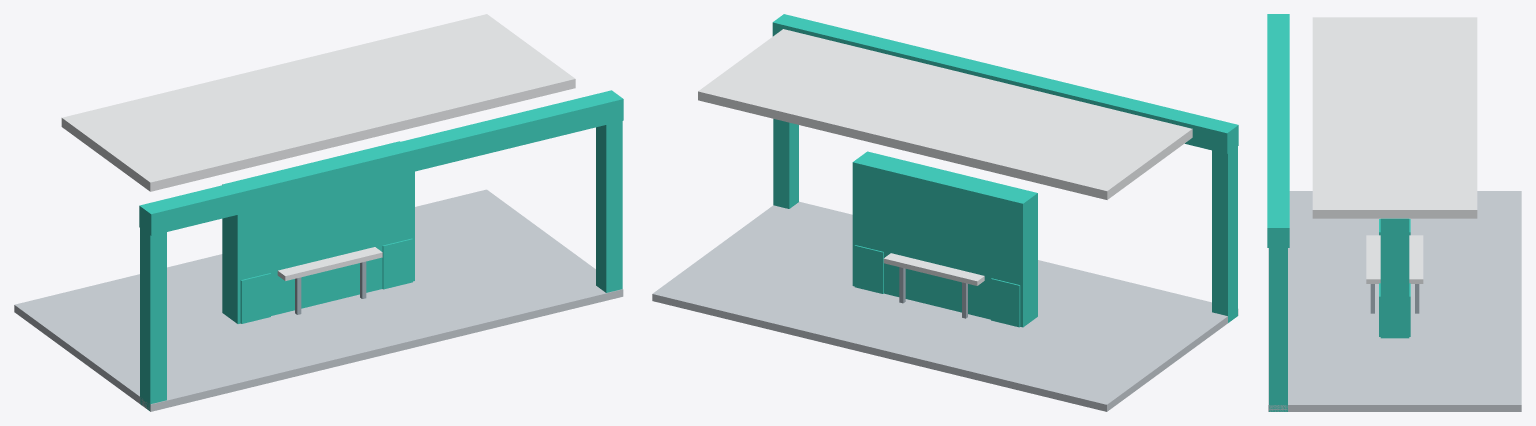
3 views of the same model, side by side, from view 1: azimuth 30°, elevation 25°; view 2: azimuth 150°, elevation 25°; view 3: azimuth 270°, elevation 25° (orthographic). The views are drawn at different scales.
Parts seen in each view (by area): view 1: Exhibition Booth Concept; view 2: Exhibition Booth Concept; view 3: Exhibition Booth Concept.
Part boxes in pixels (x1,y1,x2,y2): Exhibition Booth Concept: (14,14,623,411); Exhibition Booth Concept: (652,14,1238,411); Exhibition Booth Concept: (1267,14,1521,411).
Size of the model in its own units: 8 by 3.34 by 4.02.
